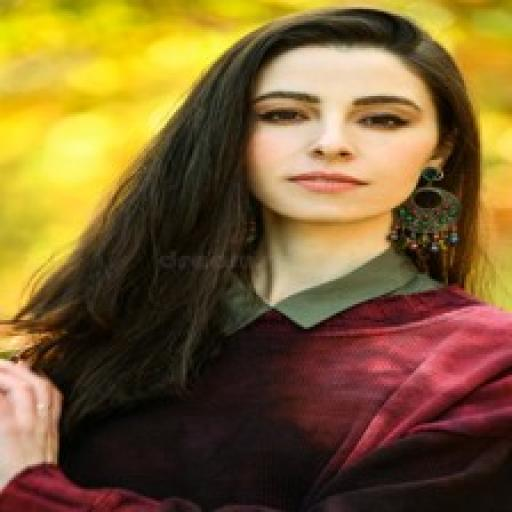human: (0, 5, 499, 512)
